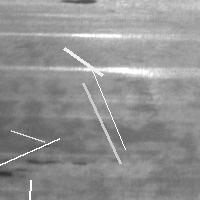scratches: (78, 78, 125, 168), (87, 65, 130, 154), (24, 62, 192, 79), (0, 134, 64, 170), (10, 28, 159, 43), (59, 43, 107, 80), (1, 157, 57, 177), (6, 126, 49, 147), (23, 175, 35, 200)
